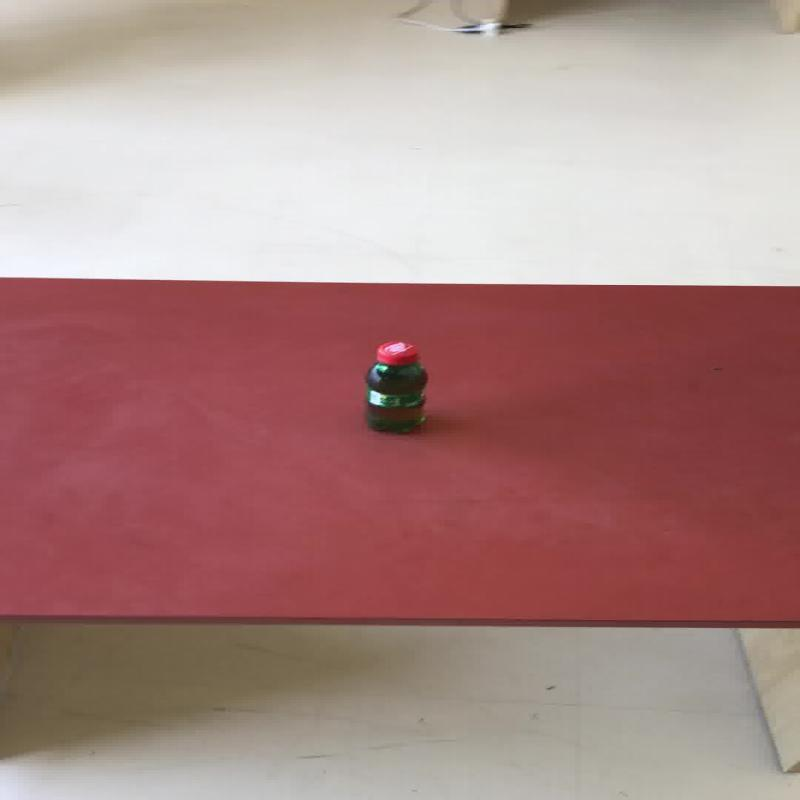guarana: (362, 339, 428, 433)
